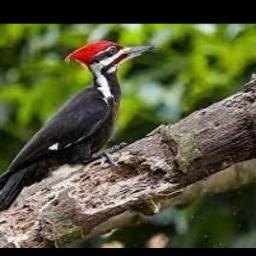Woodpecker: (0, 39, 157, 230)
